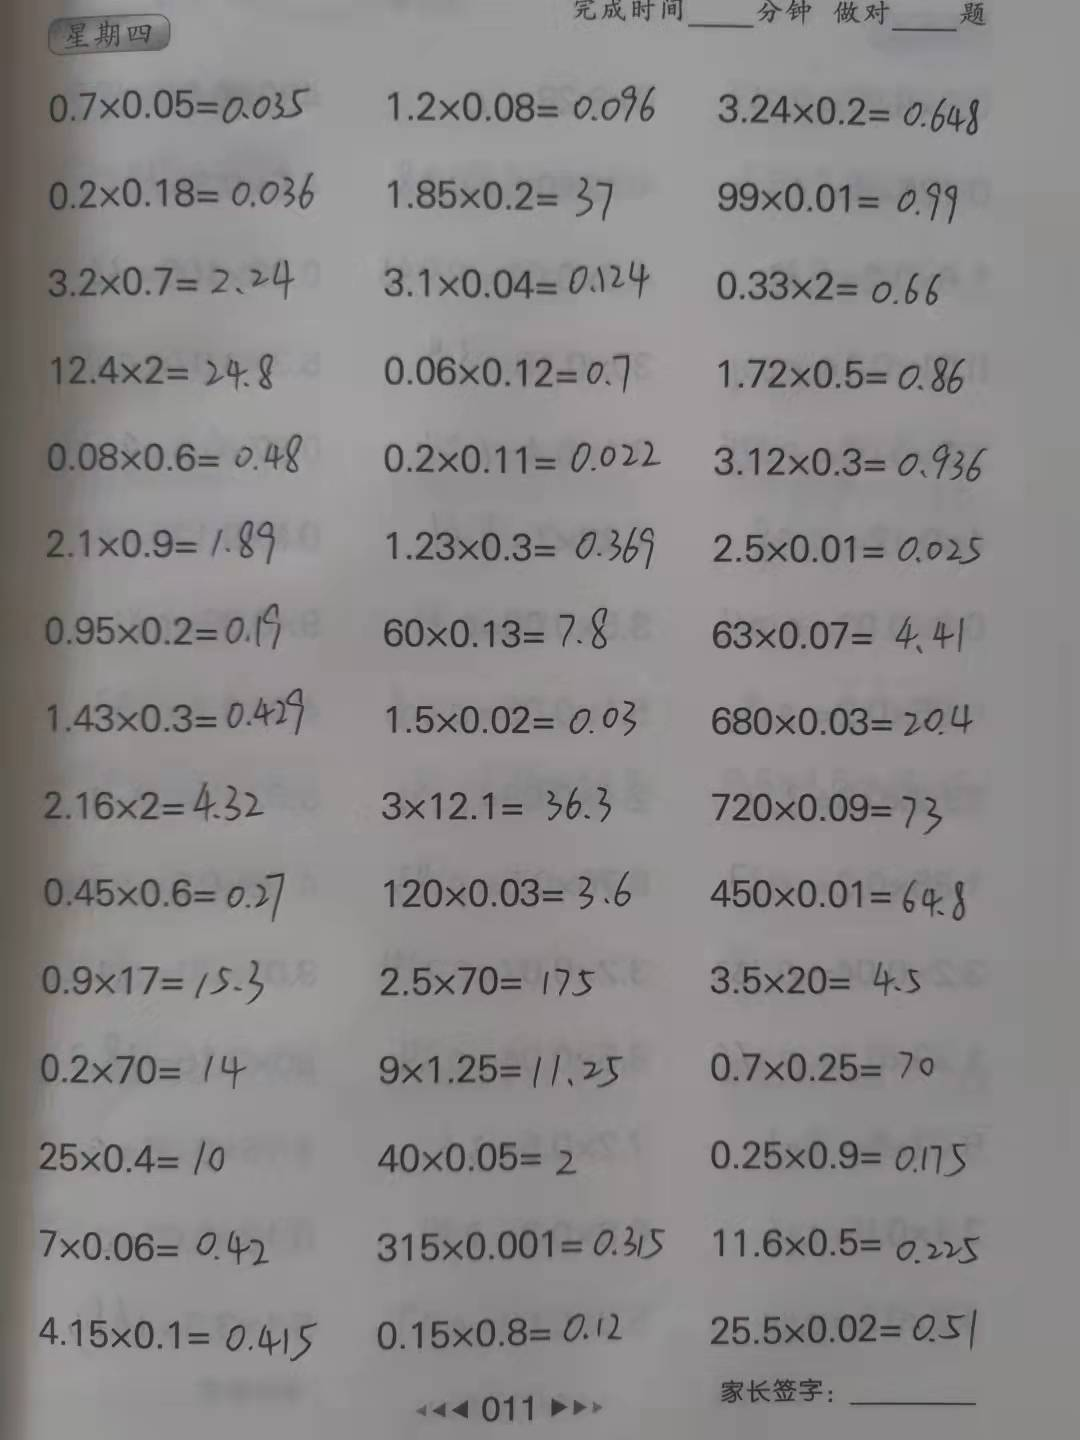equation: (710, 79, 988, 151), (27, 1298, 310, 1365), (382, 516, 666, 582), (369, 427, 666, 486), (374, 686, 660, 747), (372, 252, 655, 313), (708, 168, 970, 234), (701, 871, 982, 932), (378, 856, 641, 920), (700, 1123, 977, 1183), (370, 78, 675, 133), (709, 434, 996, 492), (28, 863, 297, 924), (370, 1218, 678, 1271), (699, 519, 993, 574), (711, 1213, 988, 1269), (28, 686, 322, 738), (379, 166, 628, 227), (40, 162, 332, 214), (697, 781, 955, 840), (29, 599, 297, 655), (698, 611, 982, 664), (373, 342, 646, 398), (24, 774, 279, 832), (36, 249, 302, 305), (34, 515, 290, 571), (712, 342, 973, 398), (24, 1213, 279, 1270), (700, 1306, 990, 1355), (42, 342, 286, 400), (37, 426, 311, 477), (706, 1035, 950, 1092), (29, 952, 278, 1008), (710, 259, 952, 315), (364, 778, 626, 828), (697, 698, 984, 744), (374, 955, 598, 1013), (27, 1044, 260, 1100), (361, 1133, 592, 1187), (40, 79, 324, 124), (370, 1044, 628, 1092), (372, 605, 631, 652), (361, 1310, 636, 1352), (27, 1134, 246, 1186), (700, 954, 933, 1000)
